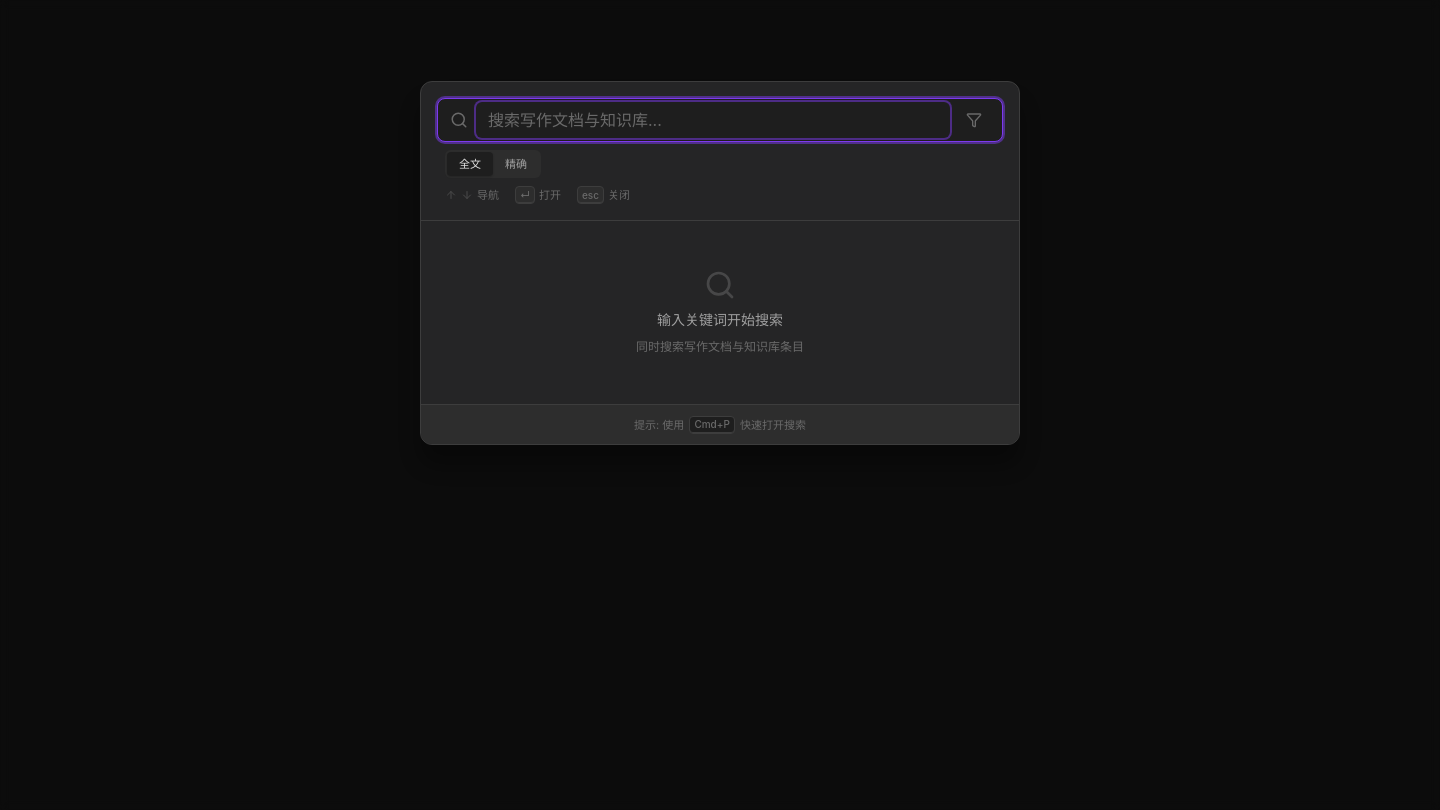
Scenario: SearchPanel › 精确查找 › 区分大小写开关生效；无效正则显示错误提示
Click the tab "精确".
click(516, 164)  # box [493, 152, 539, 176]
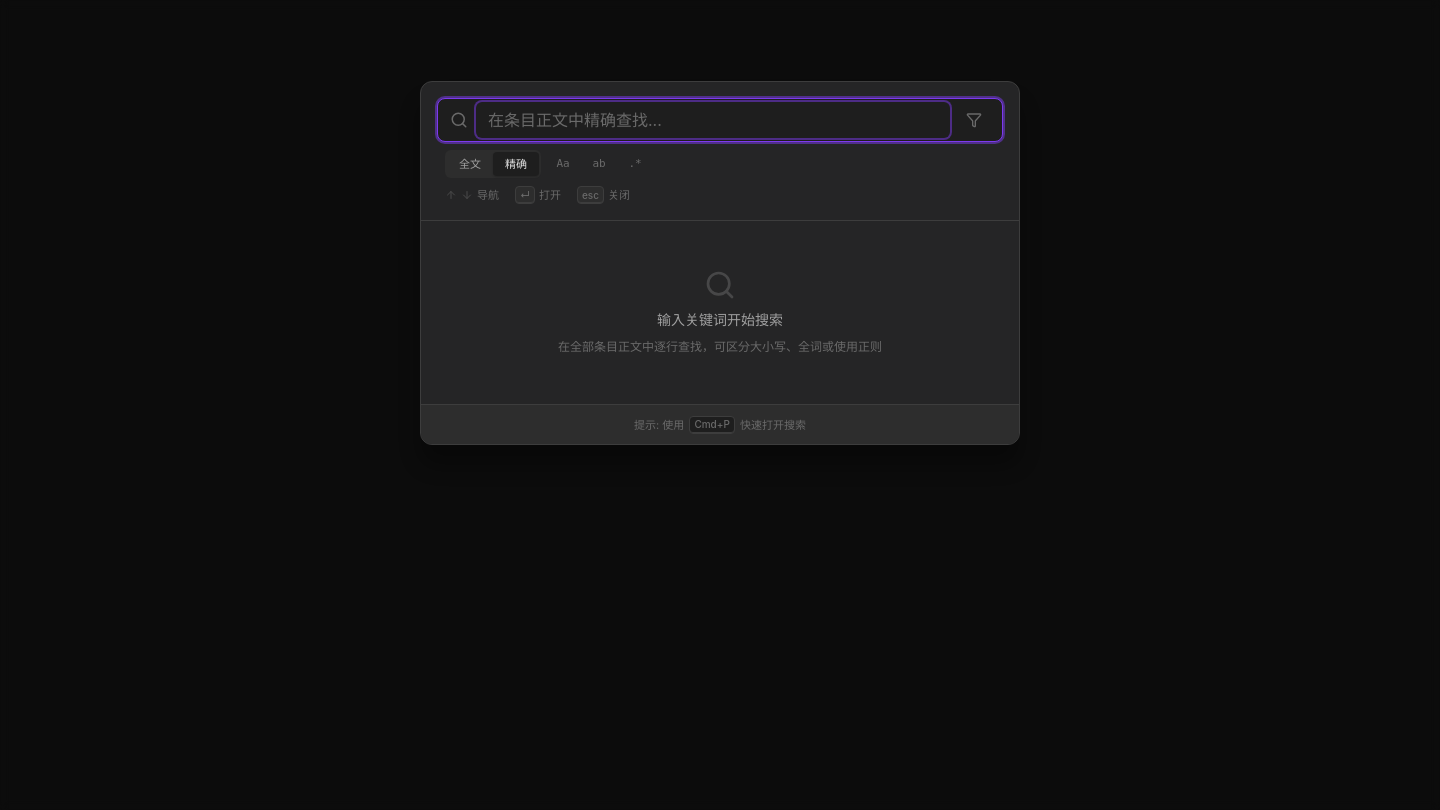
Type "todo" into the field named "搜索".
click(713, 120); type("todo")  # box [476, 102, 950, 138]
Wait 300 ms
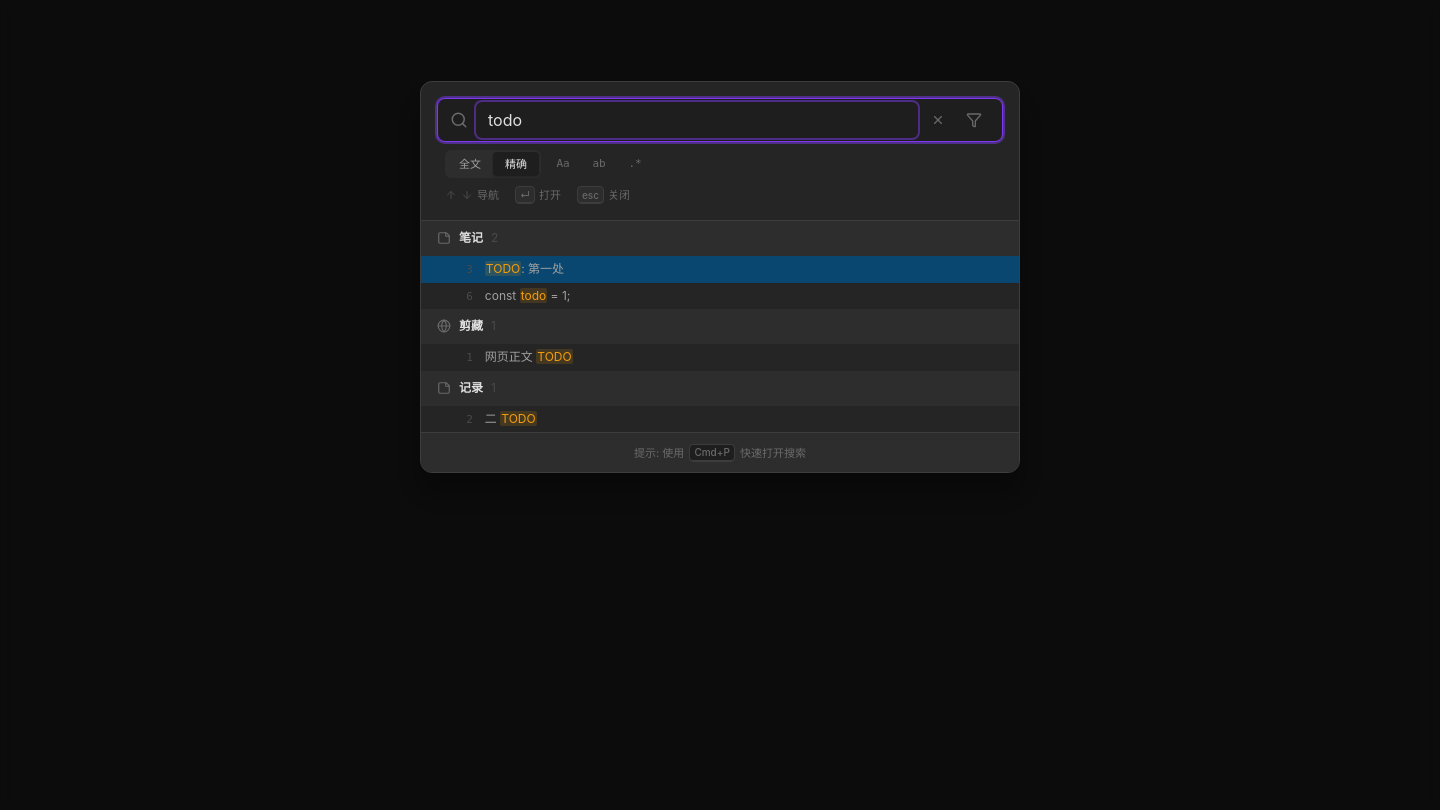
Click the button with aria-label "区分大小写".
click(563, 164)  # box [549, 152, 577, 176]
Wait 300 ms
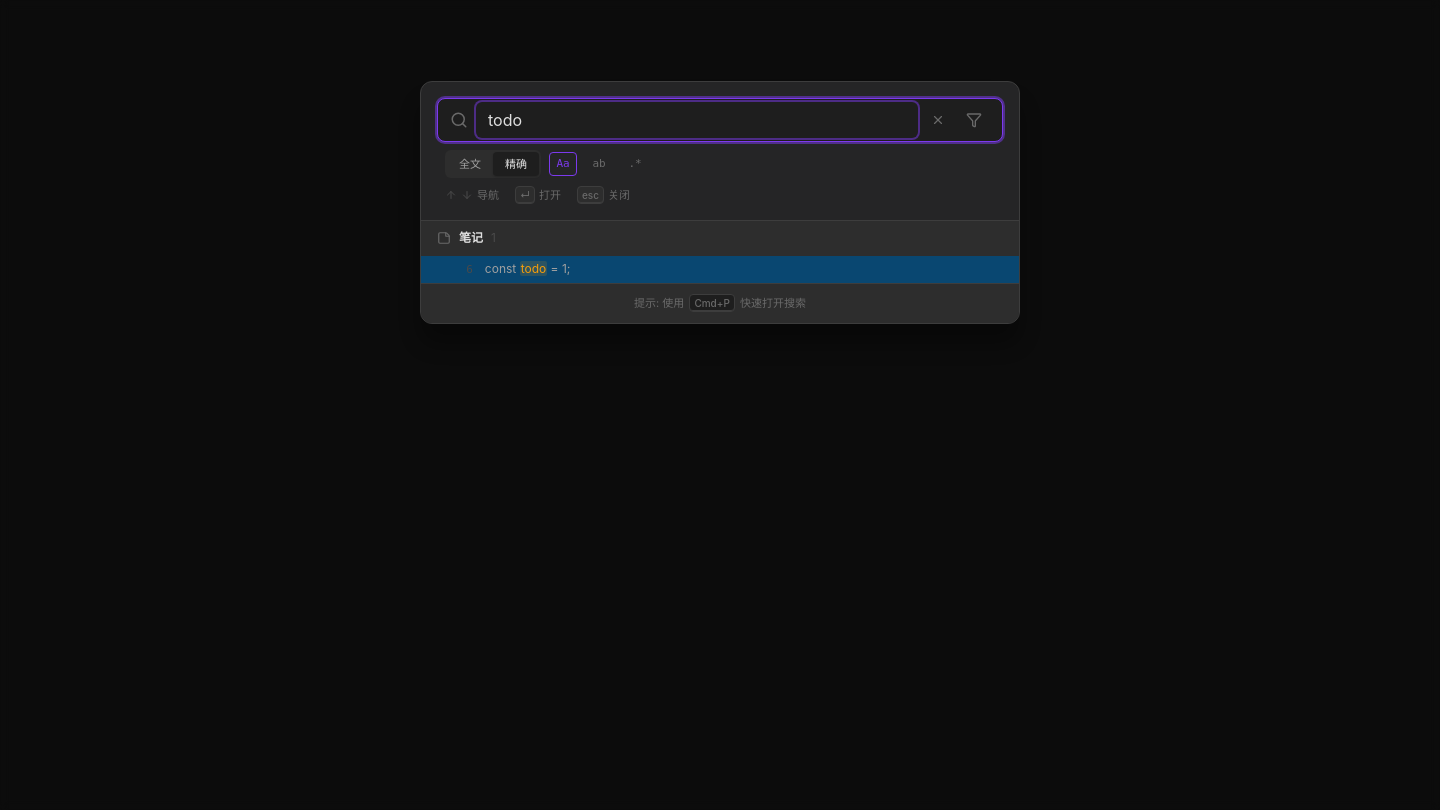
Expected: the number of options is 1, [421, 256, 1019, 282]
Click the button named "正则表达式".
click(635, 164)  # box [621, 152, 649, 176]
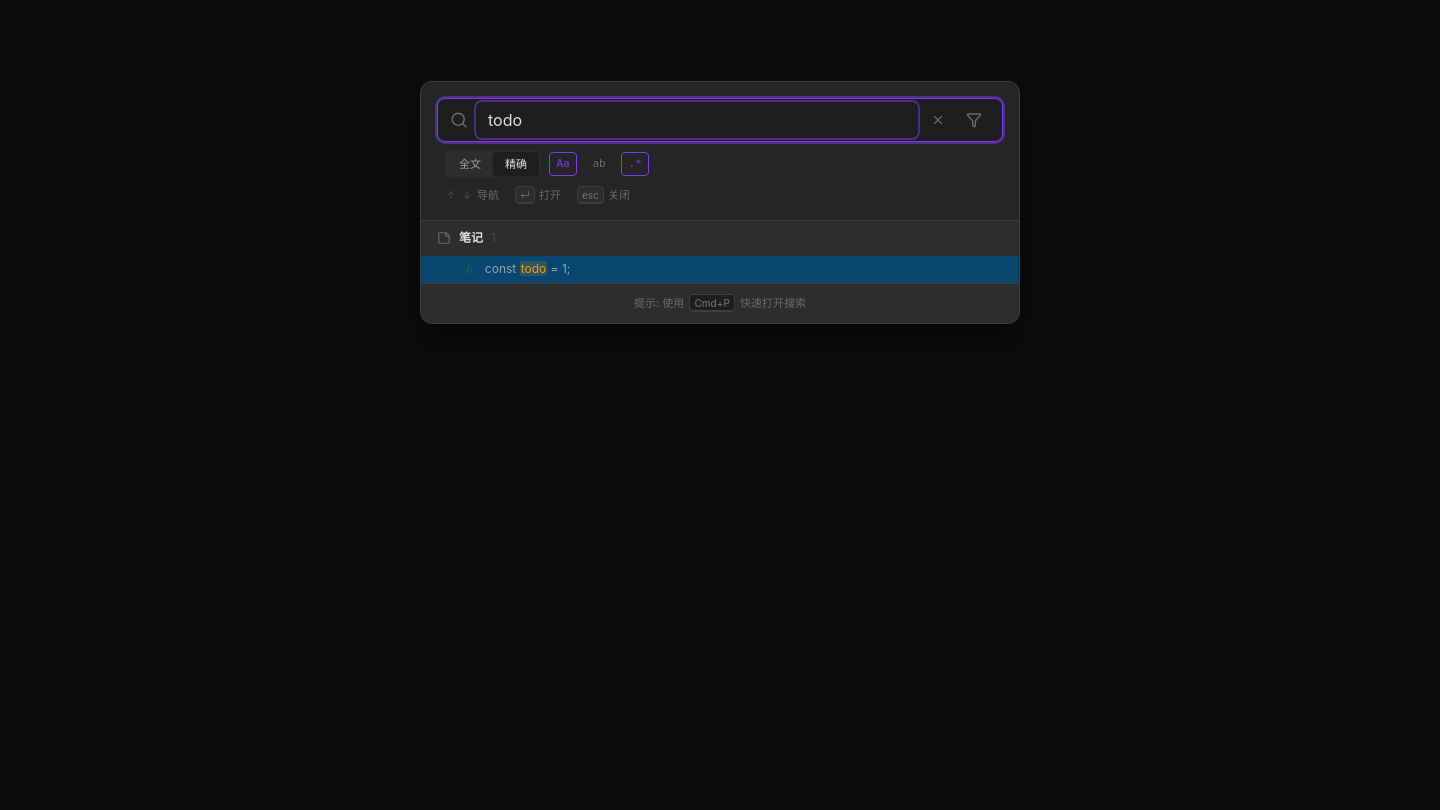
Replace the text in the field named "搜索" with "(todo" at (697, 120), box [476, 102, 918, 138]
Wait 300 ms
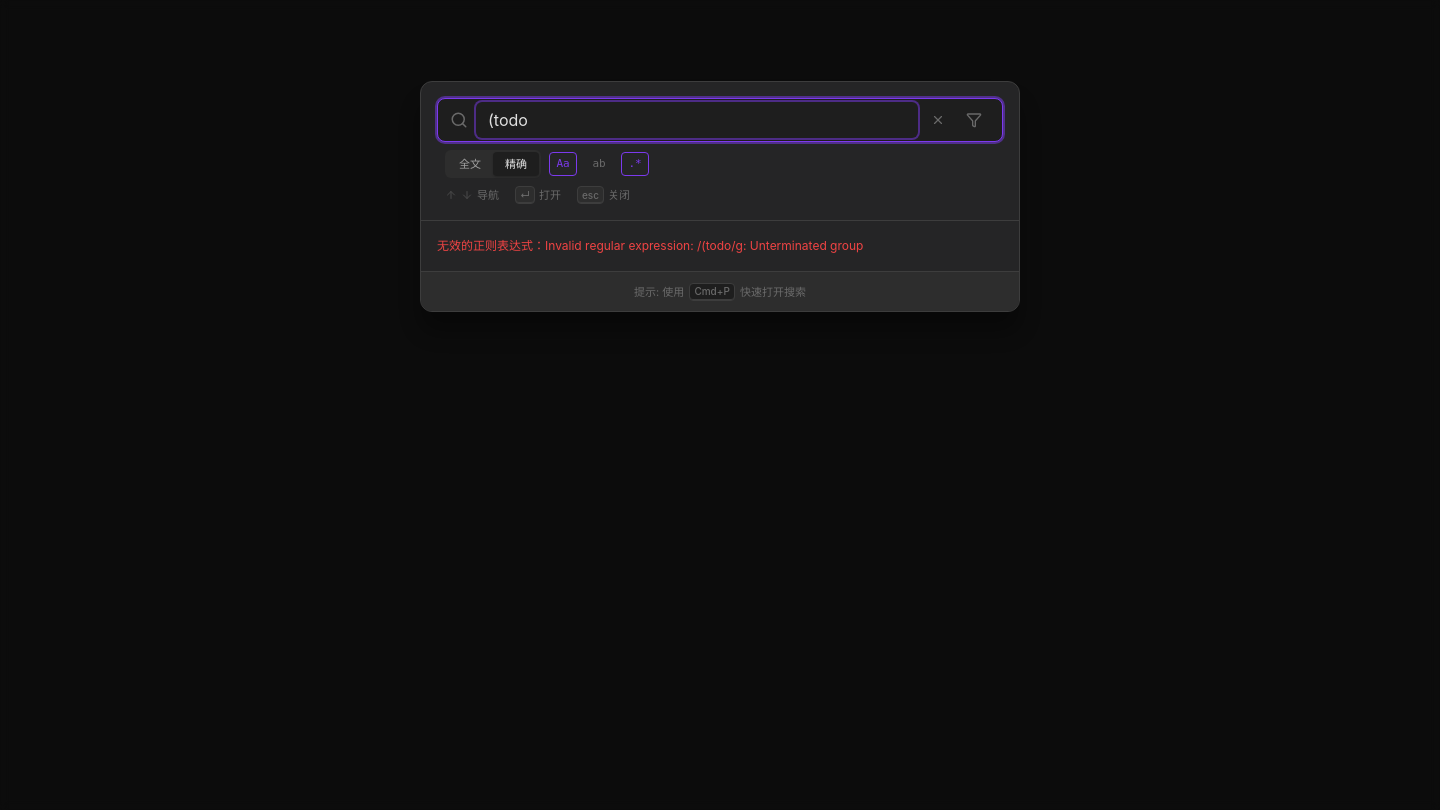
Expected: the message shows "无效的正则表达式", [437, 238, 863, 253]
